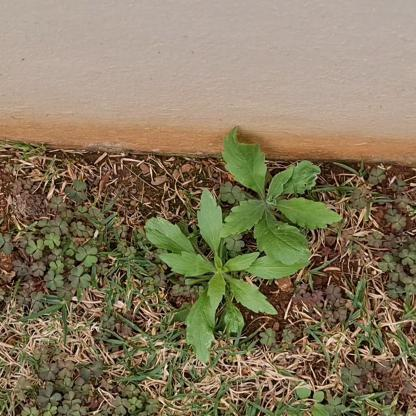Weeds: (145, 188, 315, 365), (220, 121, 342, 265)
